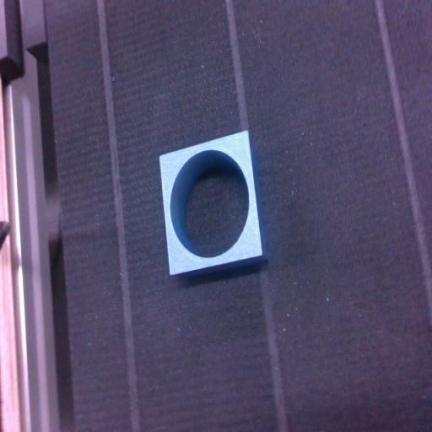square: (160, 131, 264, 275)
